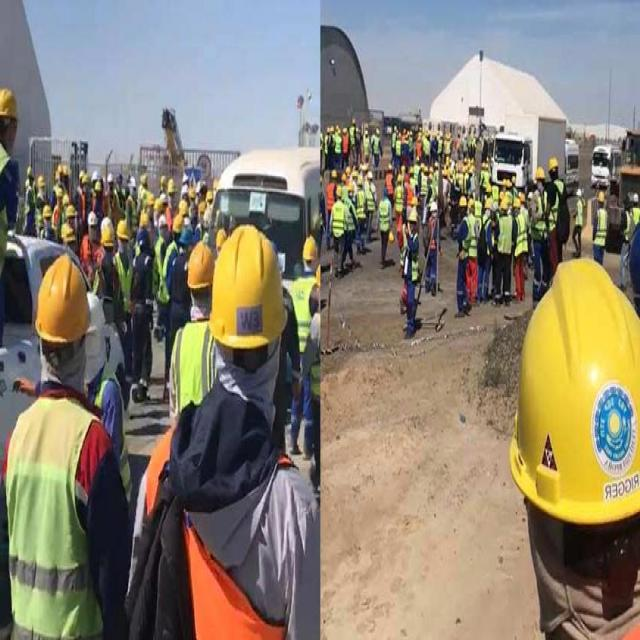Reflective-Jacket: (3, 391, 108, 634), (532, 185, 548, 240), (514, 206, 529, 258), (595, 208, 608, 244)
Safety-Helmet: (507, 258, 640, 516), (208, 218, 286, 355), (32, 250, 91, 348), (186, 240, 214, 292), (0, 81, 20, 123), (100, 215, 114, 250), (302, 232, 318, 260), (116, 215, 130, 240), (406, 205, 419, 223), (548, 153, 560, 170), (536, 164, 546, 180), (598, 189, 606, 204)
